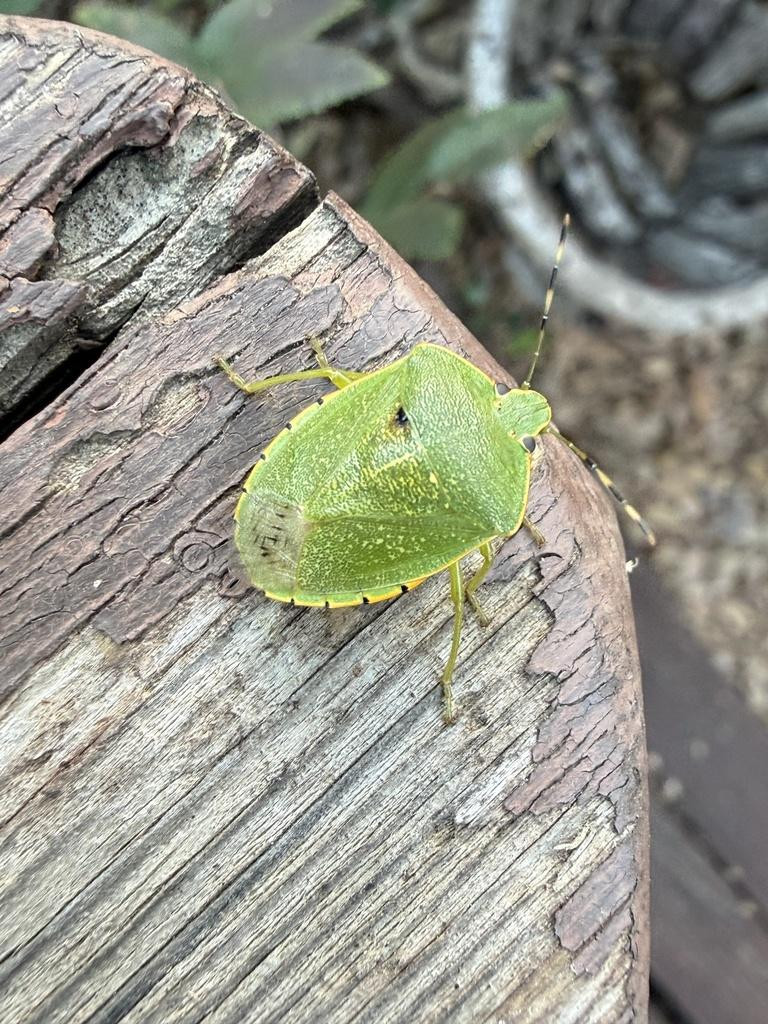stink_bugs: (172, 169, 733, 769)
